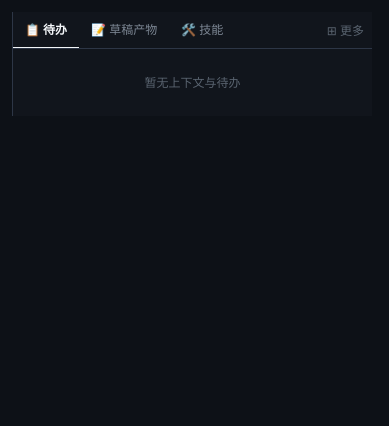
Test: T-1026 「更多」打开卡片网格：含全部低频签 + 足迹计数徽标
Click the button titled "更多面板（低频页签聚合）" at x=345, y=30, box [319,14,372,46]
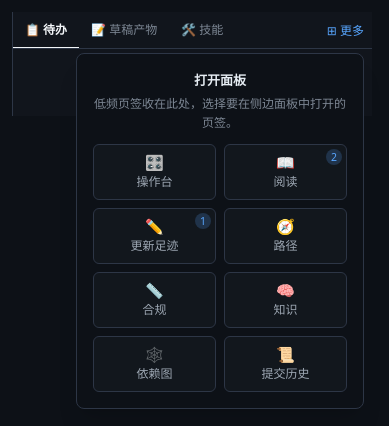
Now the element with test id "more-panels-menu" is shown
Now the text "打开面板" is shown, box [194,71,246,89]
Now the text "操作台" is shown, box [136,174,172,189]
